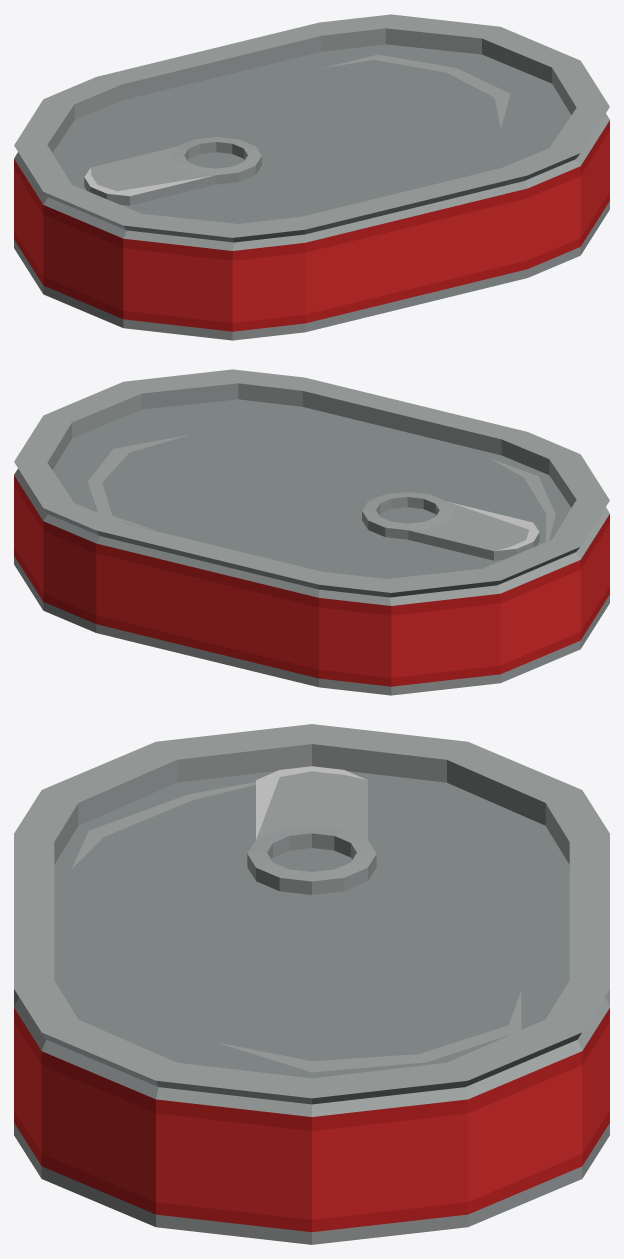
File: mesh_tuna_can_red.fbx
3 views of the same model, one above another, from view 1: azimuth 30°, elevation 25°; view 2: azimuth 150°, elevation 25°; view 3: azimuth 270°, elevation 25° (orthographic). The views are drawn at different scales.
Visible parts, largest first — view 1: mesh_tuna_can_red; view 2: mesh_tuna_can_red; view 3: mesh_tuna_can_red.
Part boxes in pixels (bbox=[...]): mesh_tuna_can_red: bbox=[14, 14, 609, 340]; mesh_tuna_can_red: bbox=[14, 369, 609, 695]; mesh_tuna_can_red: bbox=[14, 724, 609, 1244].
Bounding box in the file's own units: 0.3691 × 0.0724 × 0.2484.
